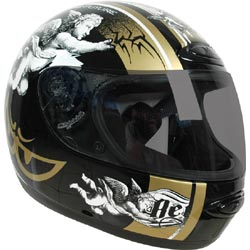helmet: (15, 13, 248, 248)
